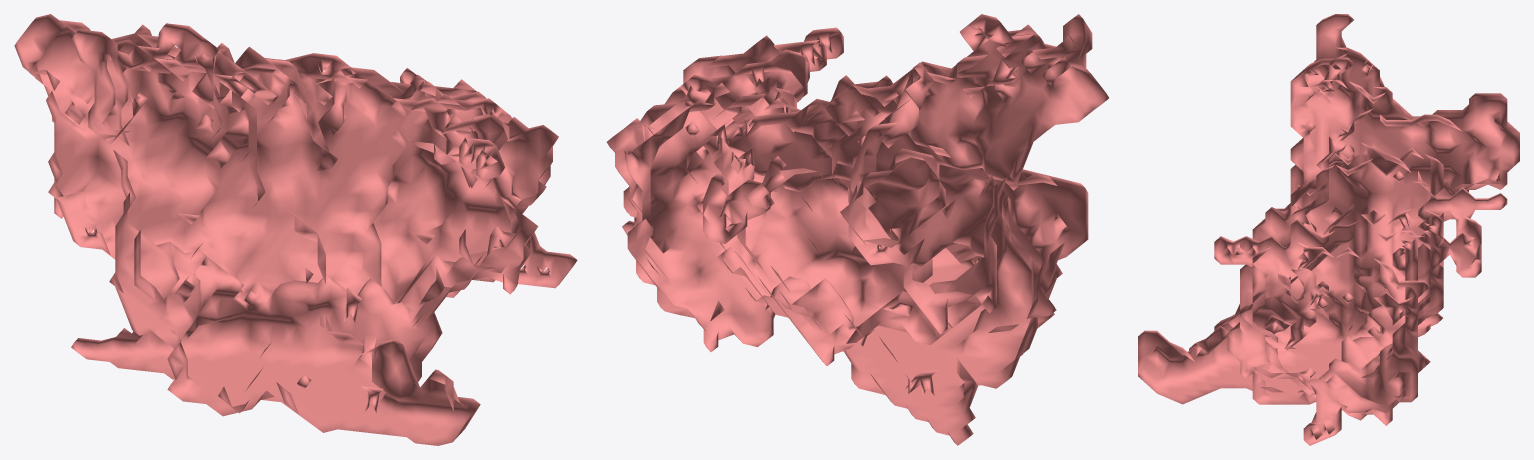
The model's file is osteocyte_6.glb.
The picture shows the model from 3 angles, left to right: view 1: azimuth 30°, elevation 25°; view 2: azimuth 150°, elevation 25°; view 3: azimuth 270°, elevation 25°; orthographic projection. The views are drawn at different scales.
Visible parts, largest first — view 1: osteocyte_6; view 2: osteocyte_6; view 3: osteocyte_6.
Part boxes in pixels (x1,y1,x2,y2): osteocyte_6: (14,14,577,445); osteocyte_6: (606,14,1108,445); osteocyte_6: (1138,14,1519,445).
Size of the model in its own units: 15.89 by 12.04 by 14.44.
